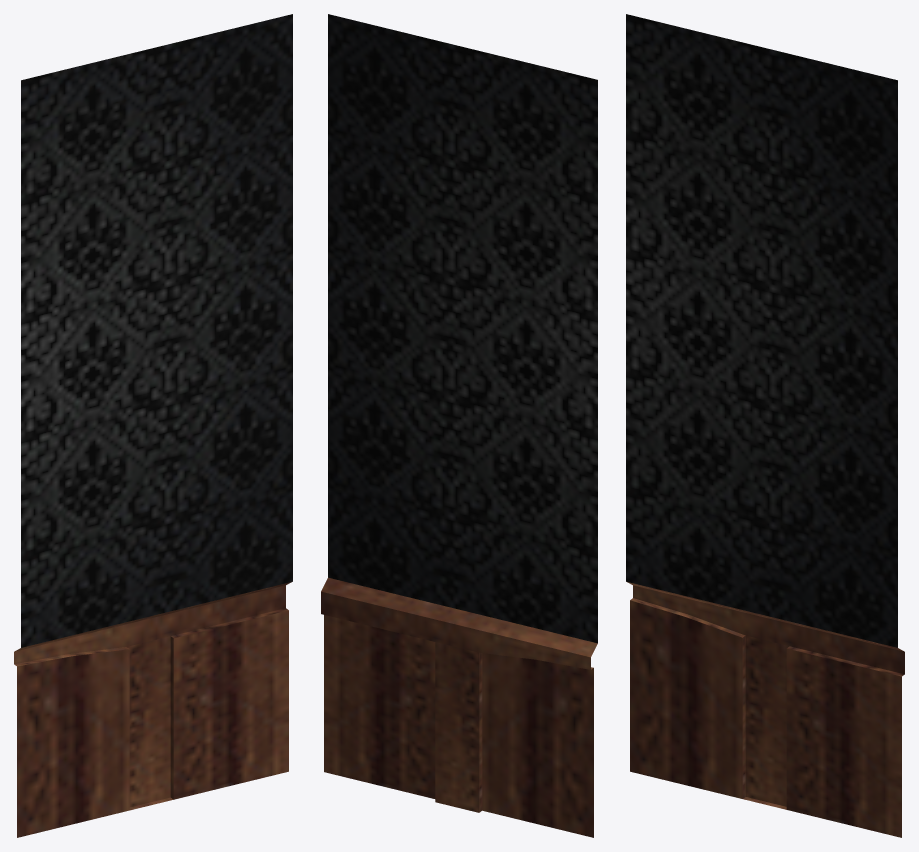
Rendered from WallpaperHighWallHalf.fbx.
3 renders of one model, left to right at view 1: azimuth 30°, elevation 25°; view 2: azimuth 150°, elevation 25°; view 3: azimuth 330°, elevation 25°, orthographic.
Visible parts, largest first — view 1: Cube.020; view 2: Cube.020; view 3: Cube.020.
Boxes of the visible parts, x1,y1,x2,y2 form: Cube.020: (14, 14, 292, 837); Cube.020: (321, 14, 597, 837); Cube.020: (626, 14, 904, 837).
Bounding box in the file's own units: 182 × 486 × 8.17.
1 material, 1 textured.
